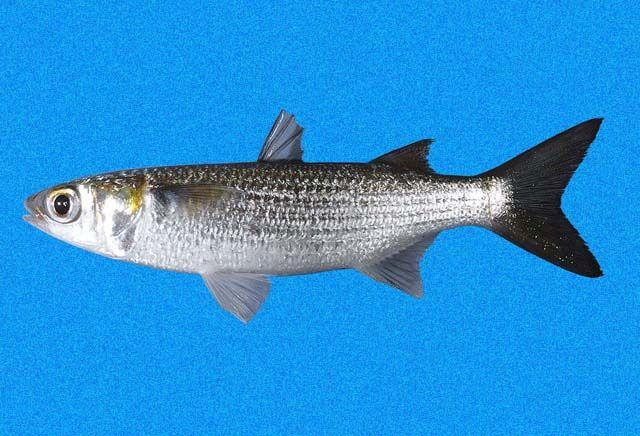Mullet: (22, 106, 608, 327)
